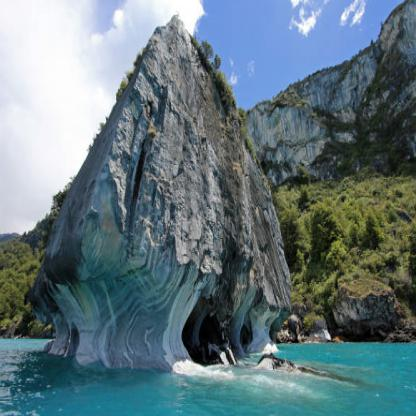Metamorphic_Marble: (48, 8, 294, 364)
